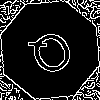Q: (25, 25, 82, 87)
